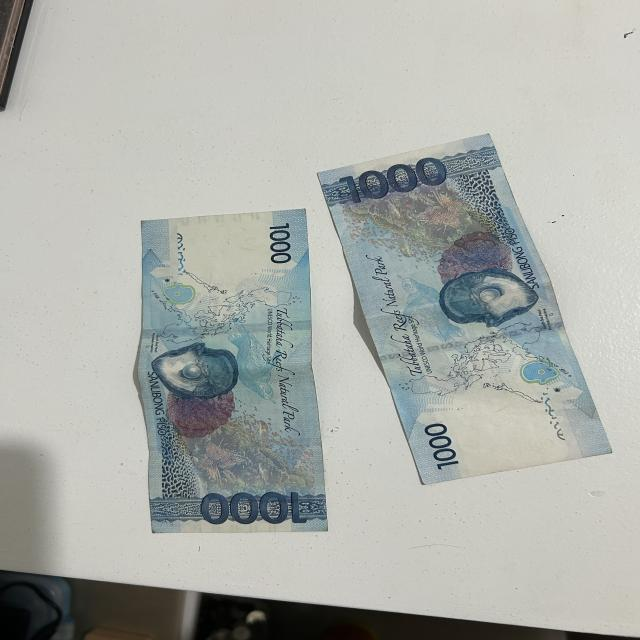1000_pearl: (442, 272, 539, 322), (150, 349, 234, 397)
1000_pearl_watermark: (526, 360, 561, 388), (164, 282, 202, 306)
